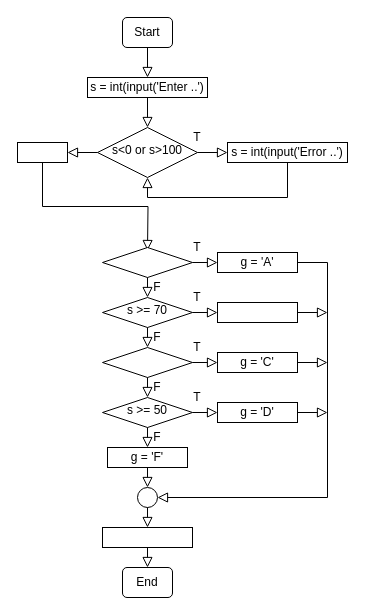
Image size: 365x615. Some labels were removed from this diagram. Each missing label, with the centre of its shape:
"g = ''" goes at (x=42, y=152).
"g = 'B'" goes at (x=257, y=312).
"print('Grade', g)" goes at (x=147, y=537).
"s >= 60" goes at (x=147, y=362).
"s >= 80" goes at (x=147, y=262).
